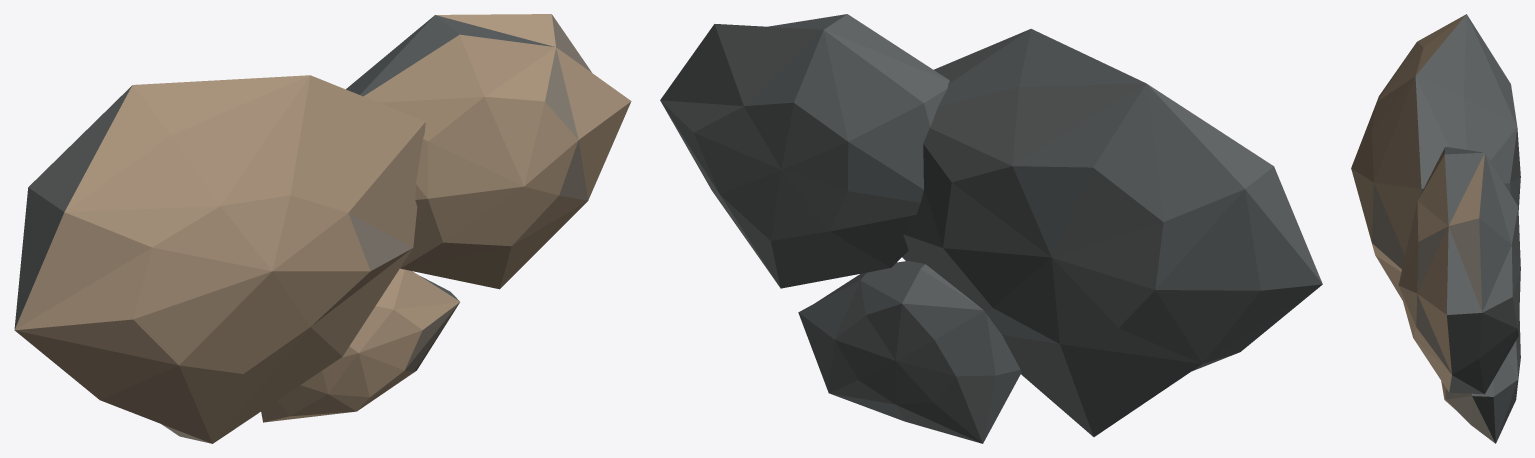
Rendered from mountain-rock-04-cluster.glb.
3 views of the same model, side by side, from view 1: azimuth 30°, elevation 25°; view 2: azimuth 150°, elevation 25°; view 3: azimuth 270°, elevation 25° (orthographic). The views are drawn at different scales.
Parts seen in each view (by area): view 1: Mountain Rock 04 Cluster; view 2: Mountain Rock 04 Cluster; view 3: Mountain Rock 04 Cluster.
Part boxes in pixels (box(x1,y1,x2,y2)): Mountain Rock 04 Cluster: box(14, 14, 631, 443); Mountain Rock 04 Cluster: box(660, 14, 1322, 443); Mountain Rock 04 Cluster: box(1351, 14, 1520, 443).
Size of the model in its own units: 2.43 by 1.41 by 0.68.
